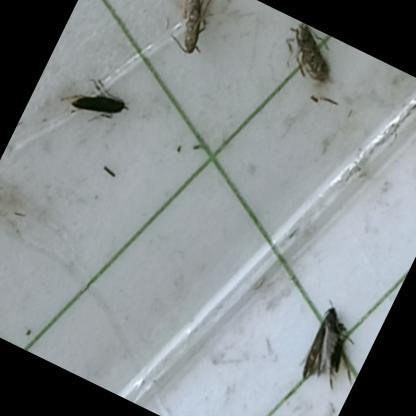prays_oleae: (271, 293, 374, 416), (248, 13, 354, 118), (44, 54, 145, 164), (140, 0, 233, 76)
